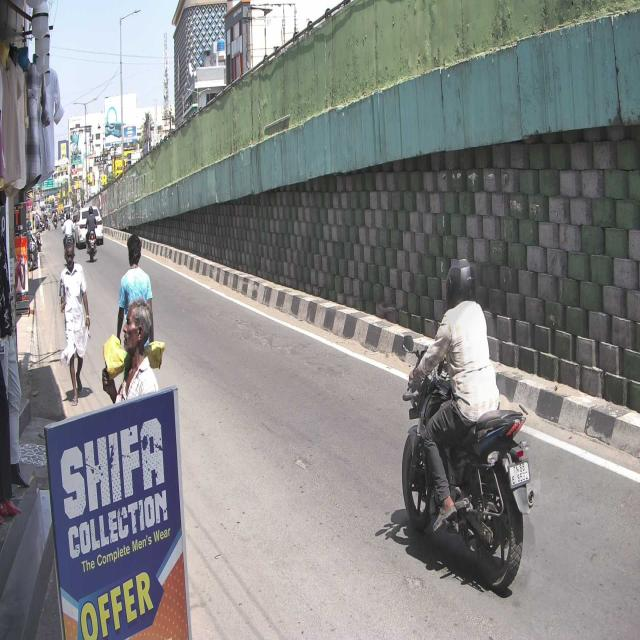single_rider: (401, 256, 536, 596)
